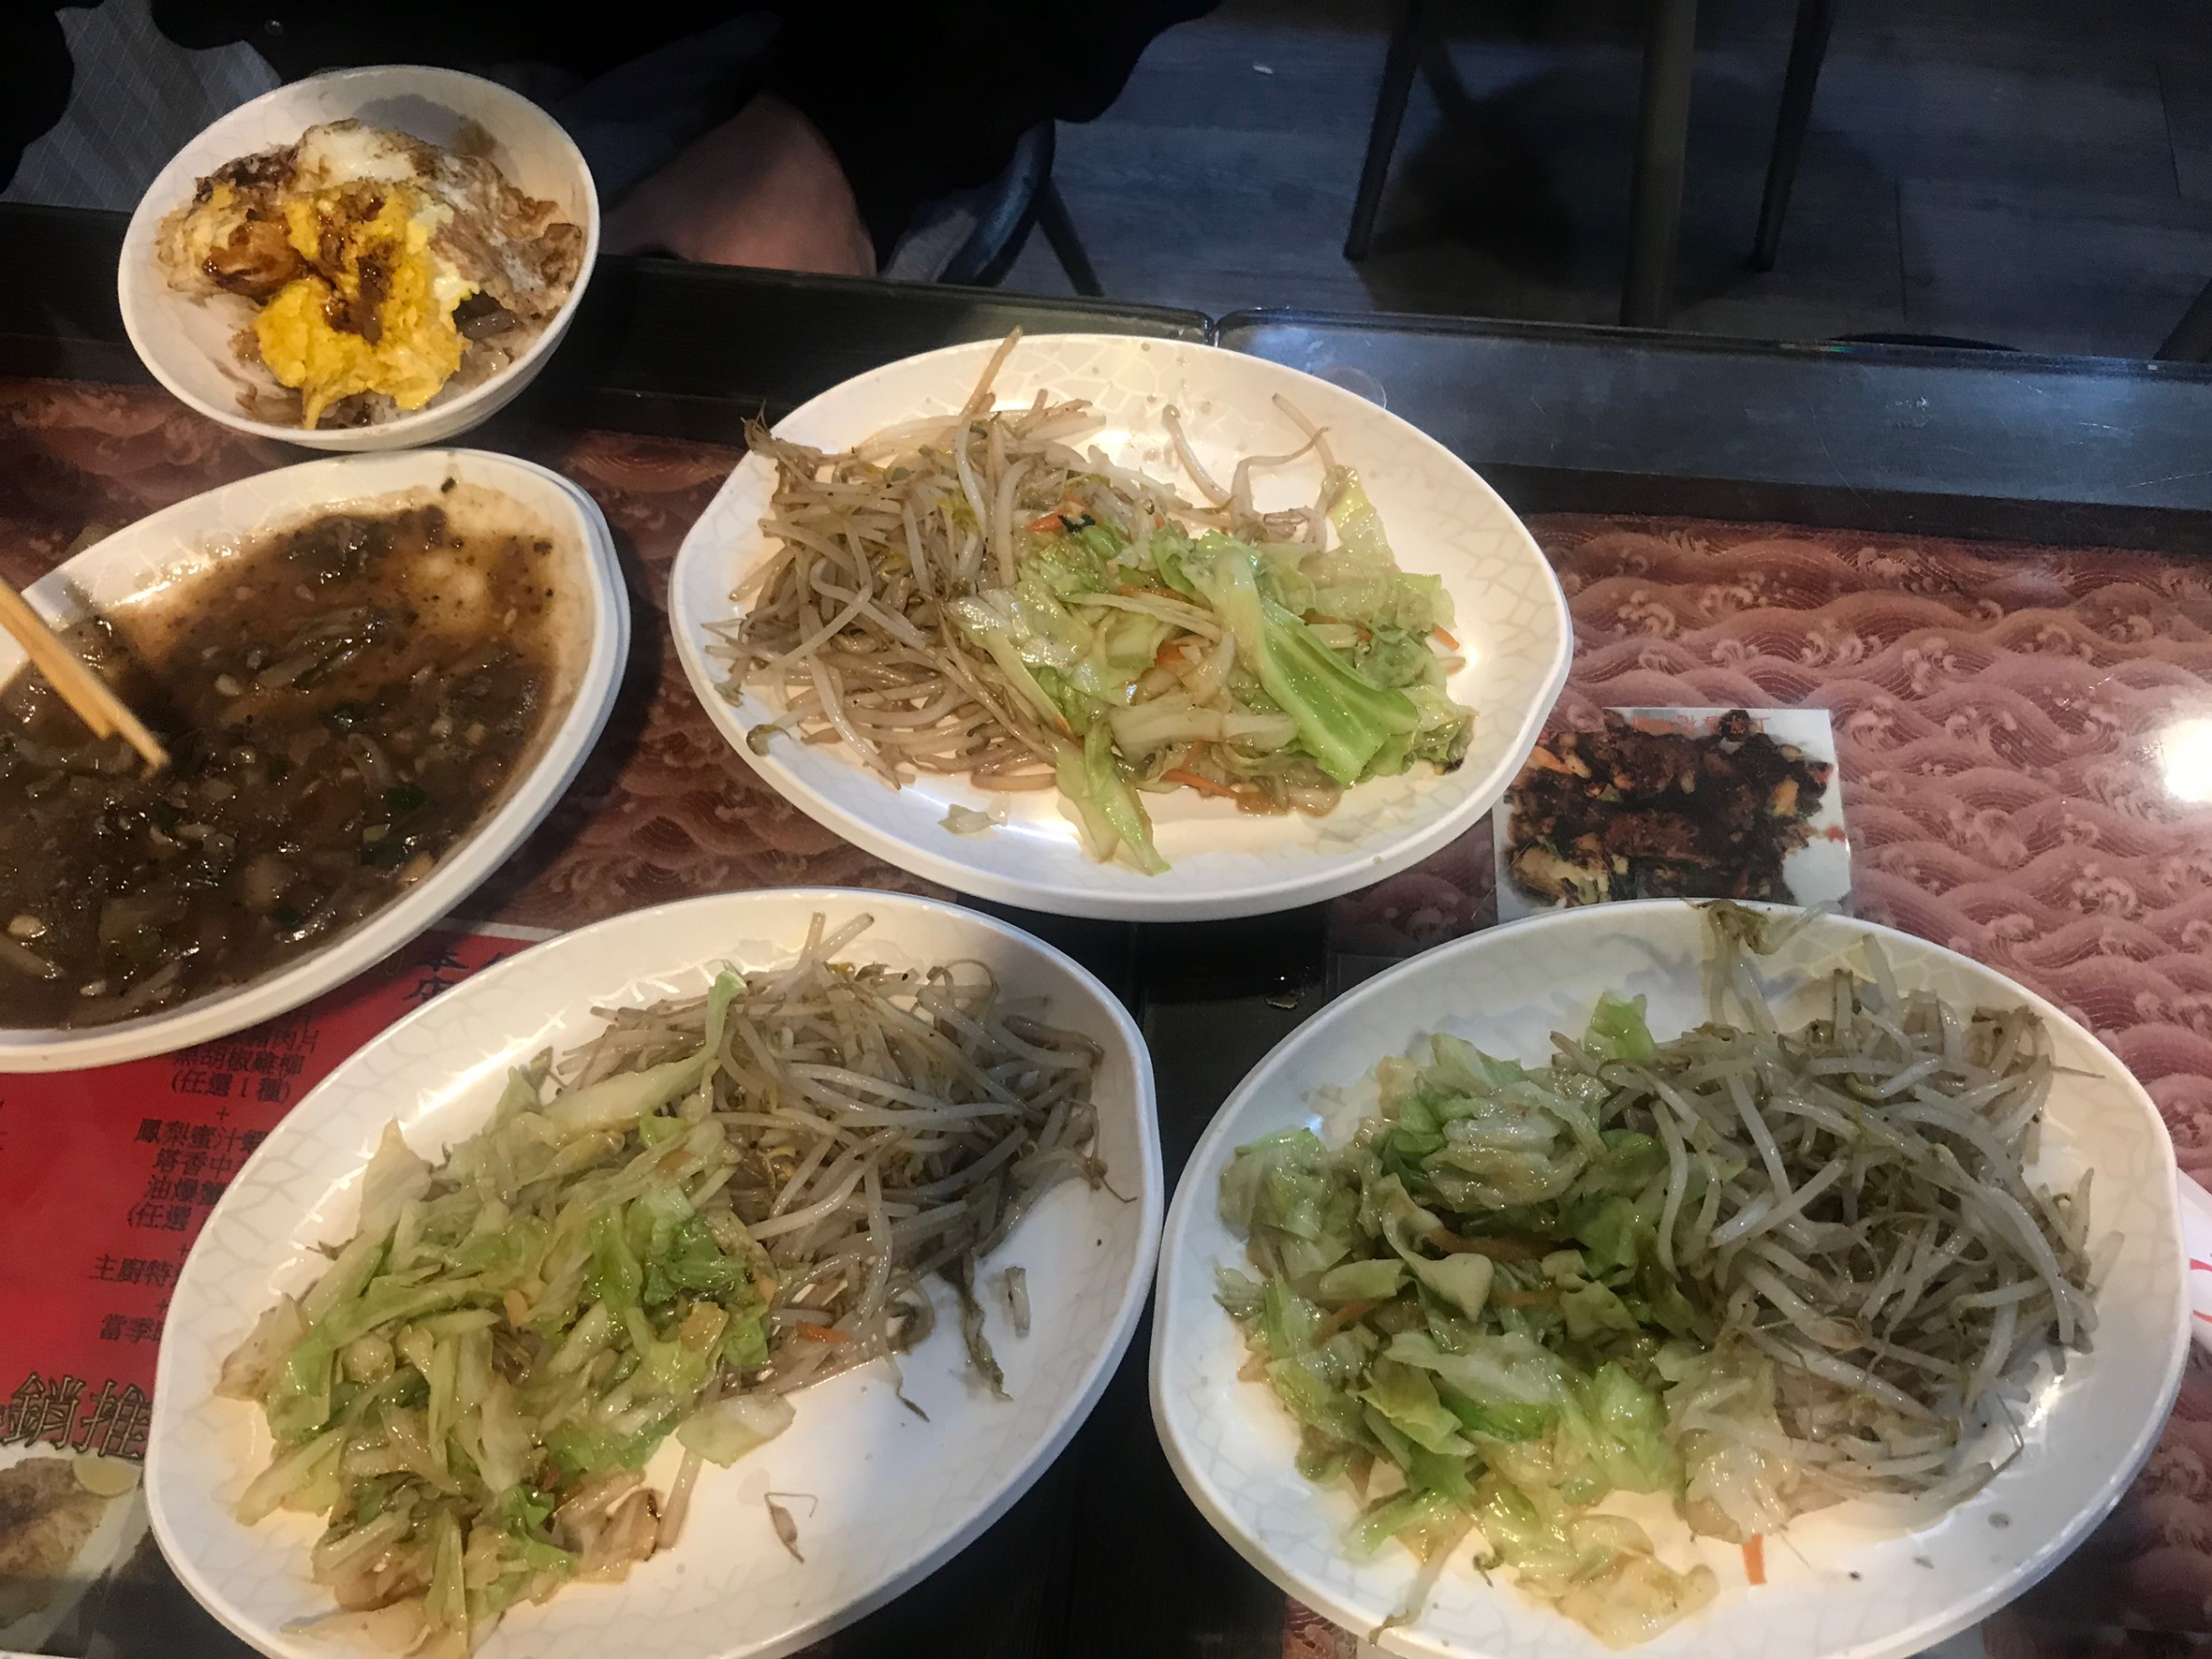chinese_cabbage: (253, 1068, 720, 1589), (1239, 1021, 1659, 1565), (1001, 507, 1450, 789)
fried_eggs: (160, 94, 570, 416)
mung_bean_sprouts: (1665, 948, 2120, 1549), (730, 397, 1018, 800), (690, 978, 1072, 1274)
